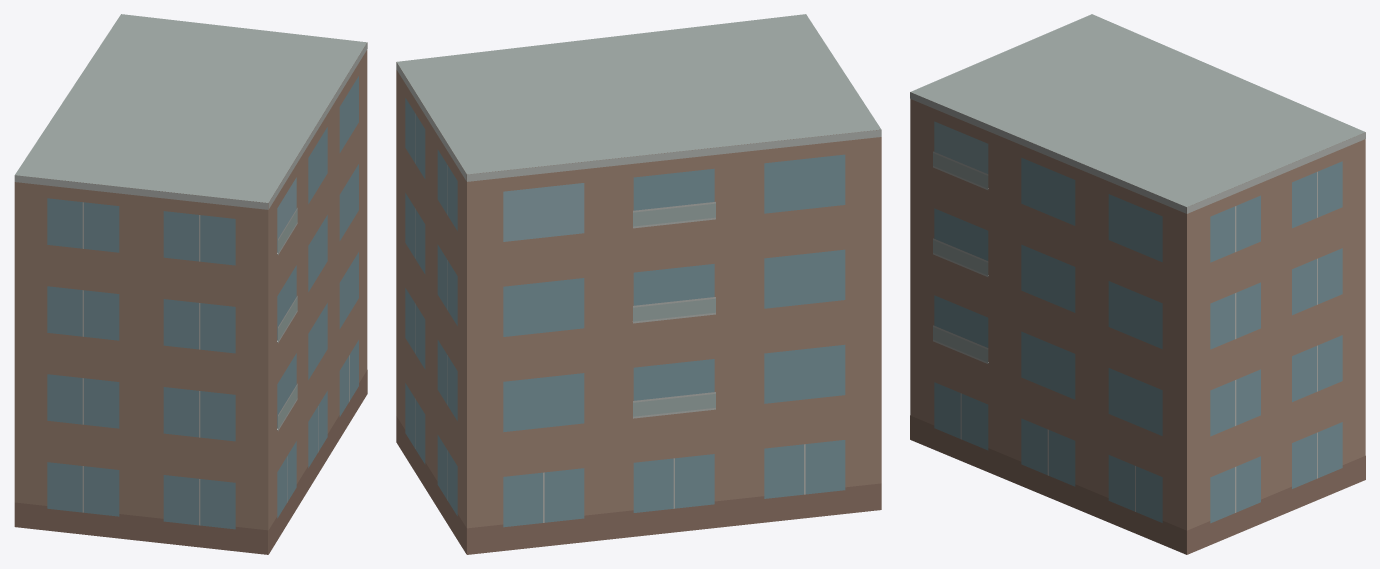
The model's file is survey-upis-32770734.glb.
3 renders of one model, left to right at view 1: azimuth 30°, elevation 25°; view 2: azimuth 150°, elevation 25°; view 3: azimuth 270°, elevation 25°, orthographic. The views are drawn at different scales.
Visible parts, largest first — view 1: survey-upis-32770734.tmp; view 2: survey-upis-32770734.tmp; view 3: survey-upis-32770734.tmp.
Boxes of the visible parts, x1,y1,x2,y2 form: survey-upis-32770734.tmp: (14,14,367,554); survey-upis-32770734.tmp: (396,14,881,554); survey-upis-32770734.tmp: (910,14,1365,554).
Size of the model in its own units: 14.94 by 12.53 by 14.89.
